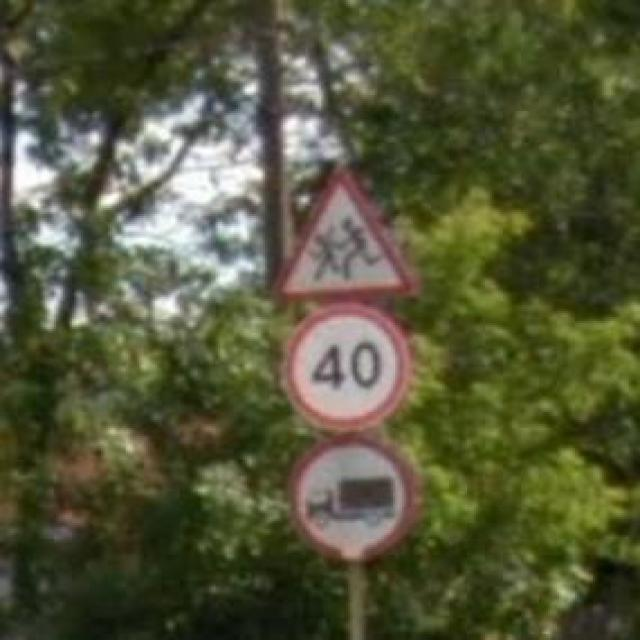Ograniczenie predkosci do 40: (283, 305, 411, 432)
